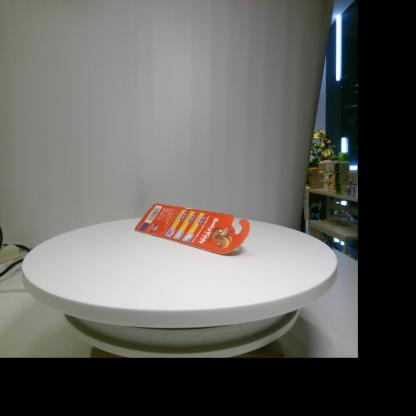Personal Hygiene: (135, 203, 250, 254)
